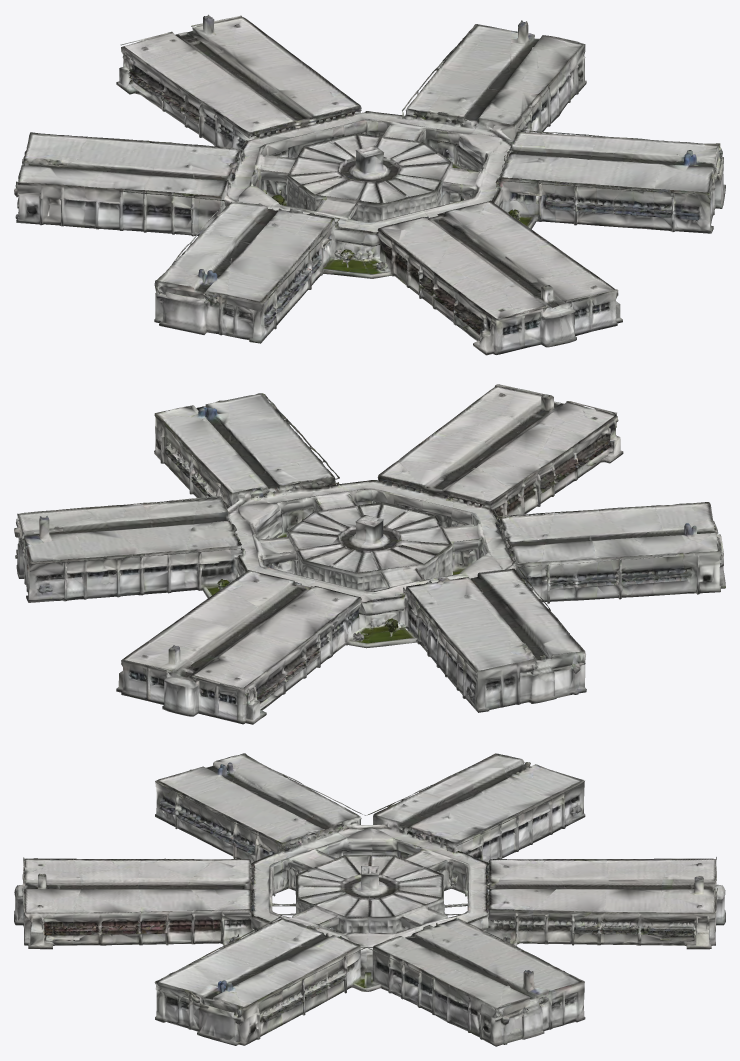
File: unidade-tecnologica.glb
The picture shows the model from 3 angles, top to bottom: view 1: azimuth 30°, elevation 25°; view 2: azimuth 150°, elevation 25°; view 3: azimuth 270°, elevation 25°; orthographic projection. The views are drawn at different scales.
Visible parts, largest first — view 1: mesh_node; view 2: mesh_node; view 3: mesh_node.
Part boxes in pixels (x1=…): mesh_node: x1=14, y1=14, x2=725, y2=355; mesh_node: x1=14, y1=384, x2=725, y2=724; mesh_node: x1=14, y1=753, x2=725, y2=1046.
Bounding box in the file's own units: 1.62 × 0.1654 × 1.9.
Materials: 1 (1 with a texture image).
